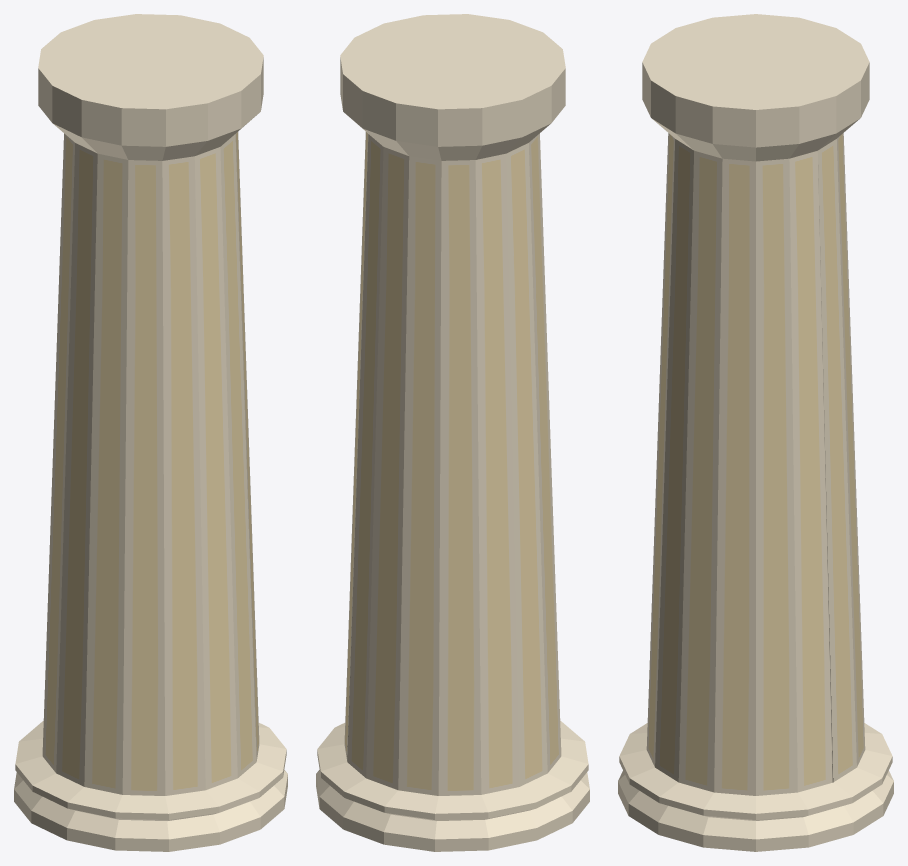
File: Pillar small.fbx
The picture shows the model from 3 angles, left to right: view 1: azimuth 30°, elevation 25°; view 2: azimuth 150°, elevation 25°; view 3: azimuth 270°, elevation 25°; orthographic projection.
Parts seen in each view (by area): view 1: Circle; view 2: Circle; view 3: Circle.
Part boxes in pixels (<box>): Circle: <box>14,14,287,851</box>; Circle: <box>316,14,589,851</box>; Circle: <box>618,14,893,851</box>.
Size of the model in its own units: 200 by 585 by 200.
